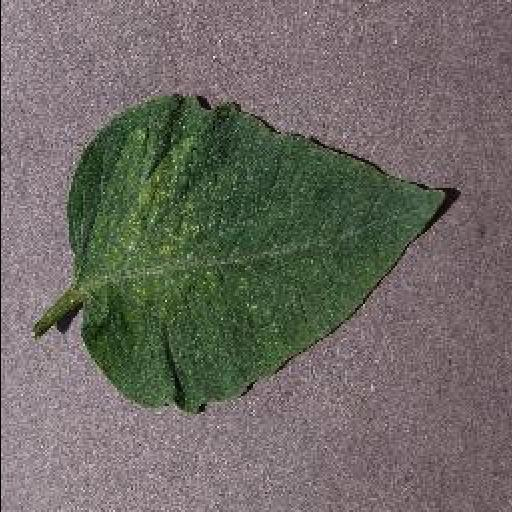disease_tomato: (65, 92, 447, 414)
